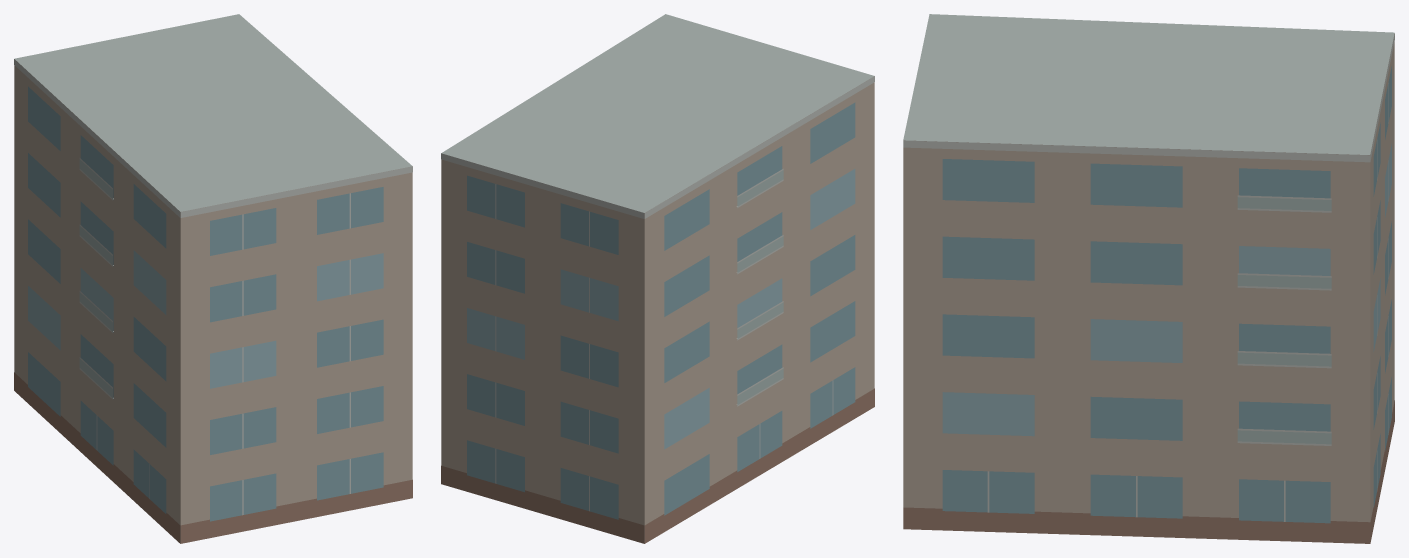
File: survey-upis-32935344.glb
3 views of the same model, side by side, from view 1: azimuth 30°, elevation 25°; view 2: azimuth 150°, elevation 25°; view 3: azimuth 270°, elevation 25° (orthographic). The views are drawn at different scales.
Parts seen in each view (by area): view 1: survey-upis-32935344.tmp; view 2: survey-upis-32935344.tmp; view 3: survey-upis-32935344.tmp.
Boxes of the visible parts, left/top/right/bottom form: survey-upis-32935344.tmp: left=14, top=14, right=412, bottom=543; survey-upis-32935344.tmp: left=441, top=14, right=874, bottom=543; survey-upis-32935344.tmp: left=903, top=14, right=1394, bottom=543.
Size of the model in its own units: 10.25 by 13.15 by 15.08.
